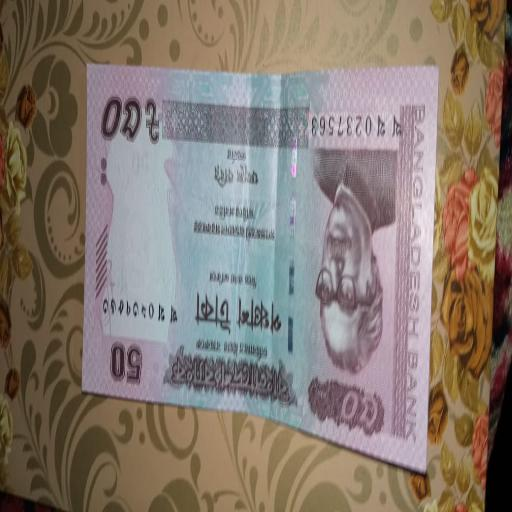50taka: (83, 65, 437, 468)
